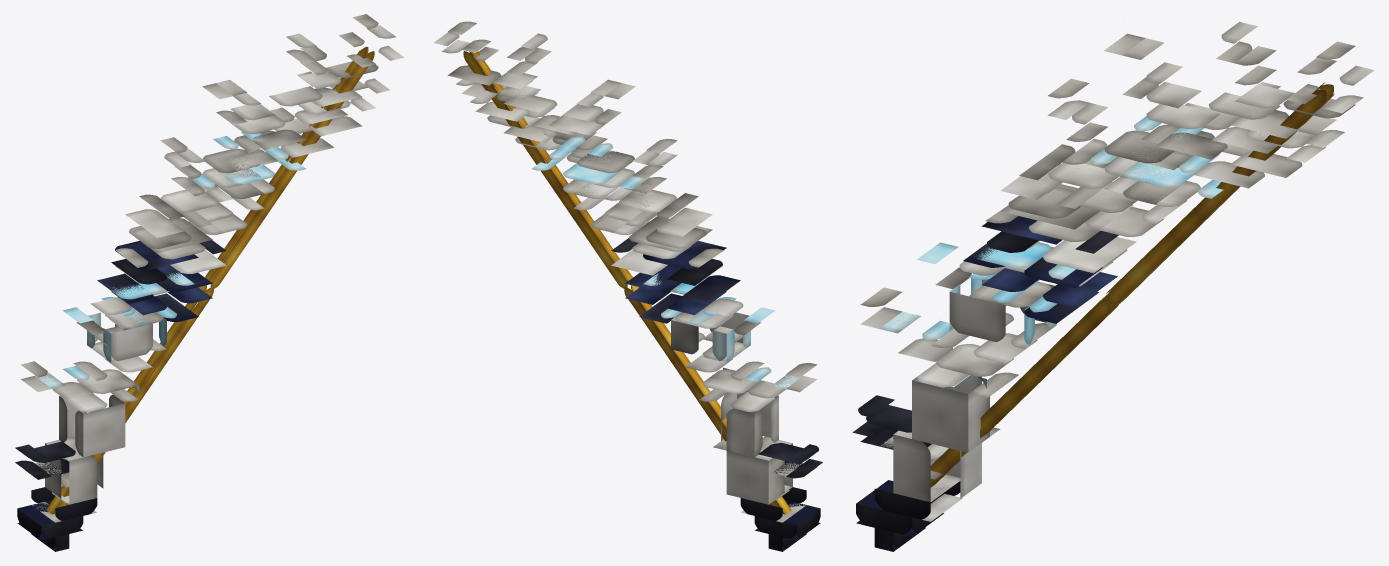
Rendered from shardstring_bow.obj.
3 views of the same model, side by side, from view 1: azimuth 30°, elevation 25°; view 2: azimuth 150°, elevation 25°; view 3: azimuth 330°, elevation 25° (orthographic). The views are drawn at different scales.
Parts seen in each view (by area): view 1: lit, fire; view 2: lit, fire; view 3: lit, fire.
Boxes of the visible parts, x1,y1,x2,y2 form: lit: (15, 14, 404, 551); fire: (46, 46, 374, 514); lit: (434, 21, 822, 551); fire: (463, 51, 791, 514); lit: (852, 22, 1374, 551); fire: (930, 82, 1334, 487).
Bounding box in the file's own units: 0.825 × 0.9375 × 0.125.
